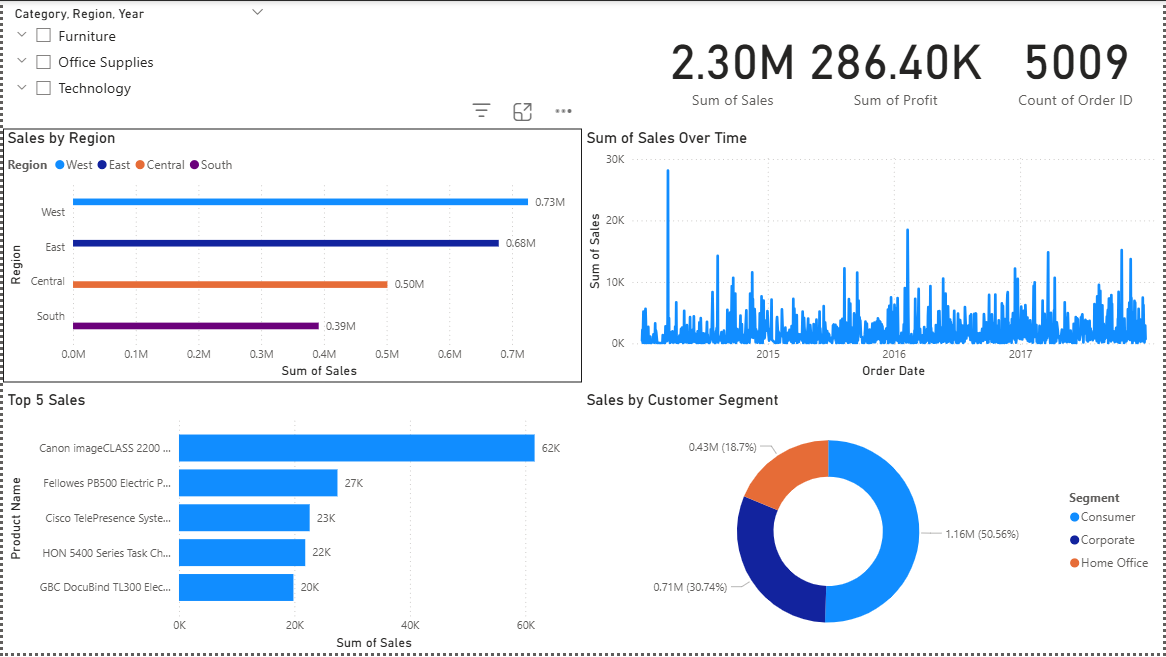

The page's visual inventory and layout, read from the dashboard file:
{"tool":"powerbi","page":{"name":"Page 1","canvas":[1280,720],"ordinal":0},"visuals":[{"type":"card","fields":{"Values":["Sum(Sample - Superstore.Sales)"]},"box":[726.7,0,156.7,140],"z":0},{"type":"card","fields":{"Values":["Sum(Sample - Superstore.Profit)"]},"box":[883.3,0,205,140],"z":1000},{"type":"card","fields":{"Values":["Count(Sample - Superstore.Order ID)"]},"box":[1088.3,0,191.7,140],"z":2000},{"type":"clusteredBarChart","title":"Sales by Region","fields":{"Y":["Sum(Sample - Superstore.Sales)"],"Category":["Sample - Superstore.Region"],"Series":["Sample - Superstore.Region"]},"box":[0,140,640,280],"z":3000},{"type":"clusteredBarChart","title":"Top 5 Sales","fields":{"Category":["Sample - Superstore.Product Name"],"Y":["Sum(Sample - Superstore.Sales)"]},"box":[0,430,640,290],"z":4000},{"type":"lineChart","title":"Sum of Sales Over Time","fields":{"Y":["Sum(Sample - Superstore.Sales)"],"Category":["Sample - Superstore.Order Date"]},"box":[640,140,640,280],"z":5000},{"type":"donutChart","title":"Sales by Customer Segment","fields":{"Category":["Sample - Superstore.Segment"],"Y":["Sum(Sample - Superstore.Sales)"]},"box":[640,430,640,290],"z":6000},{"type":"slicer","fields":{"Values":["Sample - Superstore.Category","Sample - Superstore.Region","Sample - Superstore.Ship Date.Variation.Date Hierarchy.Year"]},"box":[0,0,300,140],"z":7000}]}

Visuals, with their boxes in screenshot pixels (x1, y1, x2, y2), scaled from the page's 1280x720 canvas onto the 1166x657 screenshot:
card - Sum(Sample - Superstore.Sales): x1=662 y1=0 x2=805 y2=128
card - Sum(Sample - Superstore.Profit): x1=805 y1=0 x2=991 y2=128
card - Count(Sample - Superstore.Order ID): x1=991 y1=0 x2=1165 y2=128
"Sales by Region" clusteredBarChart: x1=0 y1=128 x2=583 y2=383
"Top 5 Sales" clusteredBarChart: x1=0 y1=392 x2=583 y2=656
"Sum of Sales Over Time" lineChart: x1=583 y1=128 x2=1165 y2=383
"Sales by Customer Segment" donutChart: x1=583 y1=392 x2=1165 y2=656
slicer - Sample - Superstore.Category x Sample - Superstore.Region: x1=0 y1=0 x2=273 y2=128
